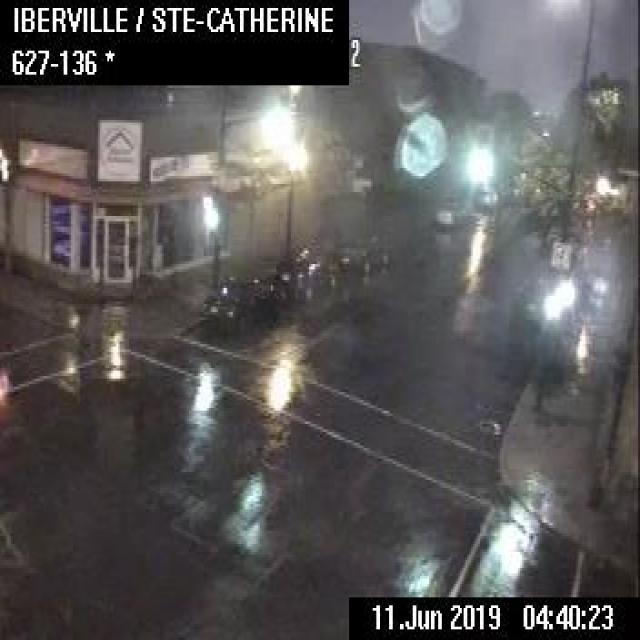vehicle: (198, 271, 279, 341), (270, 244, 334, 295), (331, 231, 389, 274), (431, 195, 466, 228), (472, 182, 496, 207)
